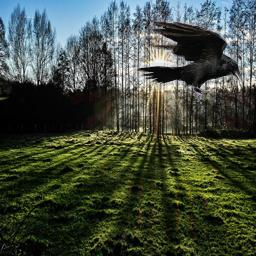Crow: (133, 20, 243, 100)
